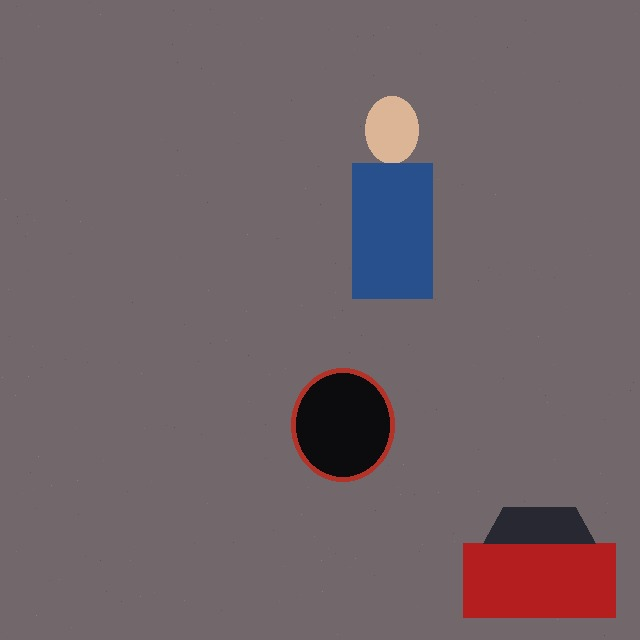open_manhole: (291, 368, 394, 481)
person: (312, 96, 472, 298)
vehicle: (463, 507, 615, 617)
